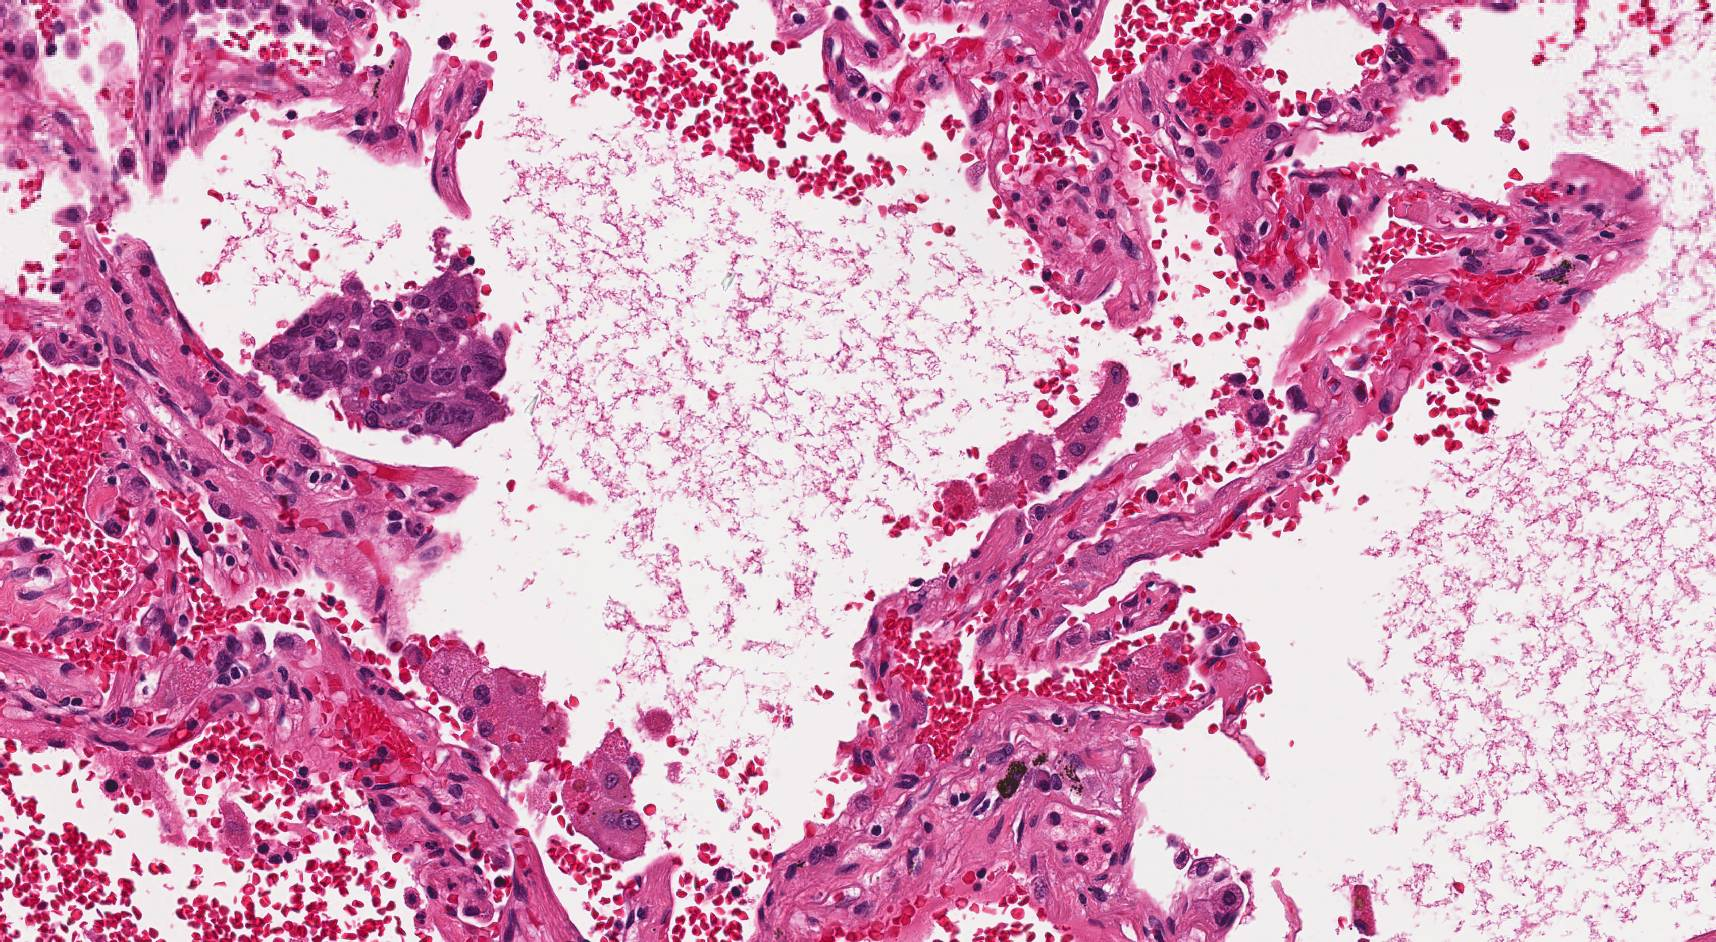stas: (253, 267, 511, 448)
